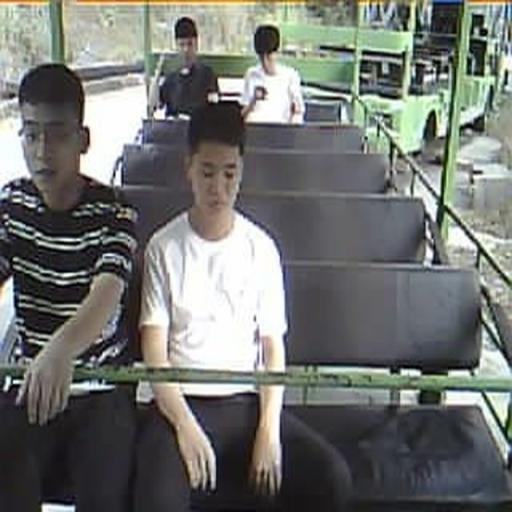persona: (135, 98, 352, 511), (1, 62, 143, 510), (240, 23, 306, 124), (157, 15, 219, 119)
